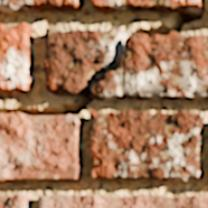brick: (90, 111, 203, 180), (0, 114, 82, 182), (0, 23, 33, 94), (41, 194, 207, 207), (91, 0, 201, 12), (0, 0, 83, 12), (0, 196, 31, 207)
broken_brick: (92, 33, 207, 102), (43, 27, 121, 96)
crack: (0, 0, 205, 117)
